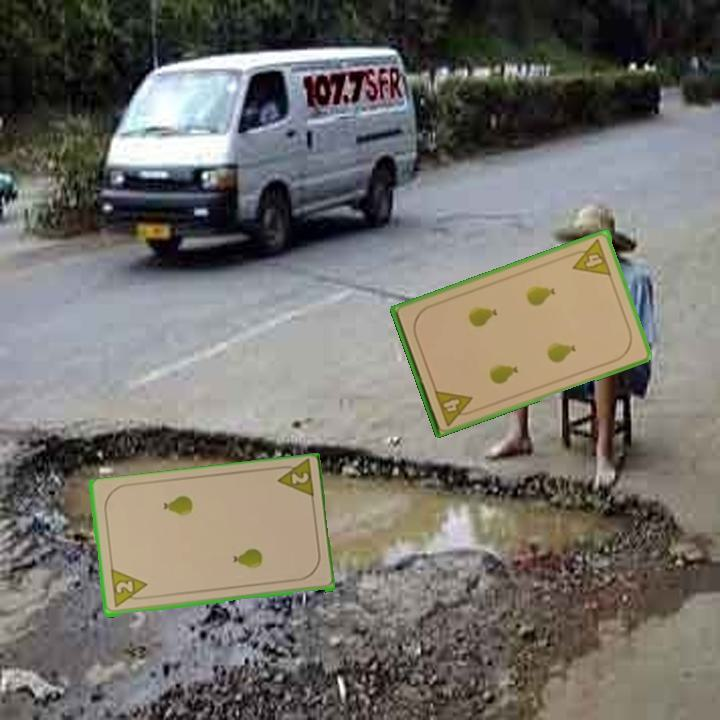2p: (271, 458, 317, 502), (107, 567, 151, 611)
4p: (566, 236, 614, 279), (431, 386, 479, 429)
